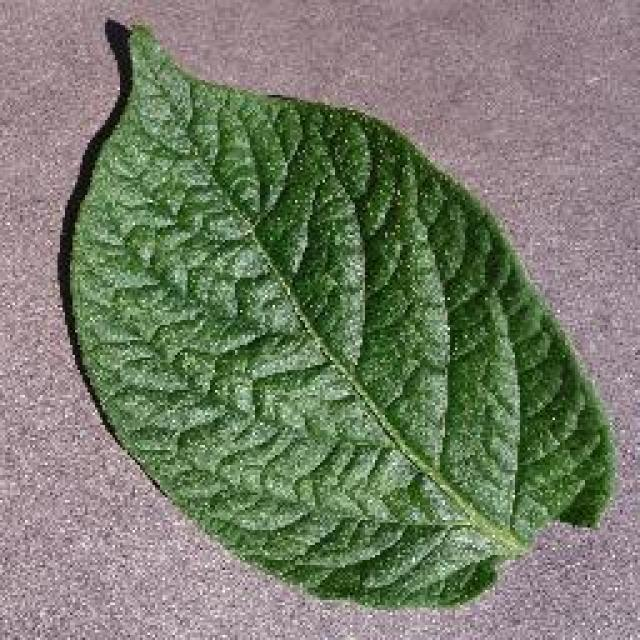healthy: (55, 15, 623, 615)
